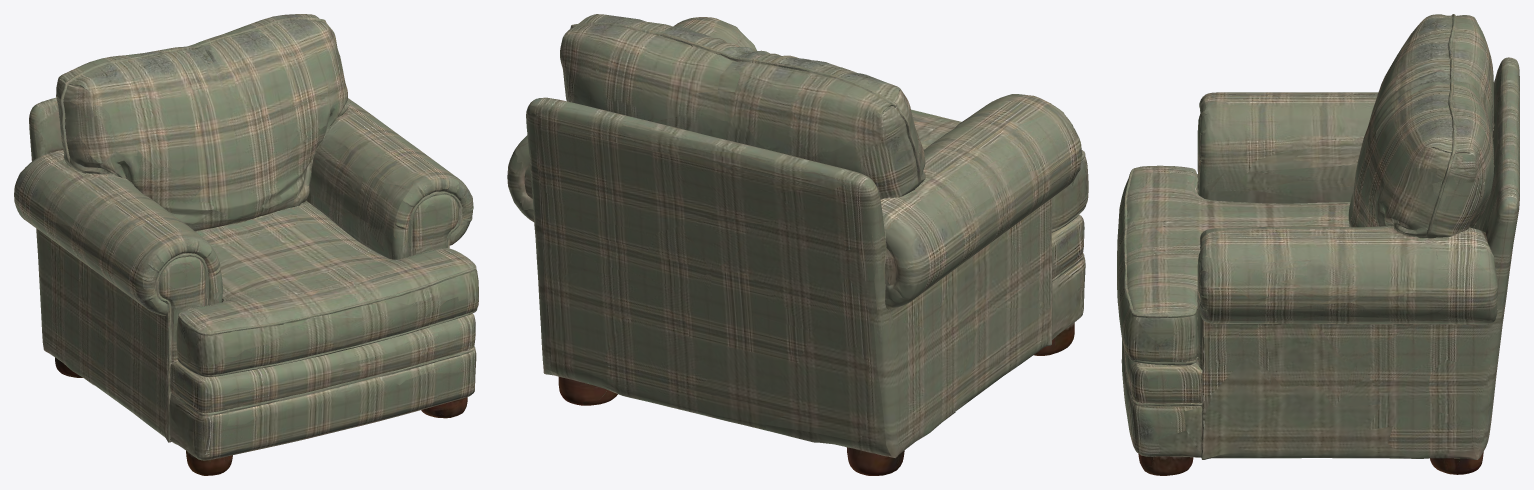
The model's file is armchair.glb.
3 views of the same model, side by side, from view 1: azimuth 30°, elevation 25°; view 2: azimuth 150°, elevation 25°; view 3: azimuth 270°, elevation 25° (orthographic). The views are drawn at different scales.
Size of the model in its own units: 1.9 by 1.64 by 1.79.
1 material, 1 textured.
